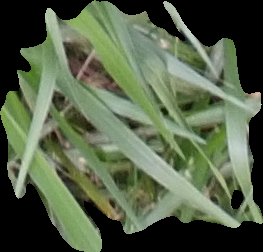grass: (1, 1, 262, 250)
